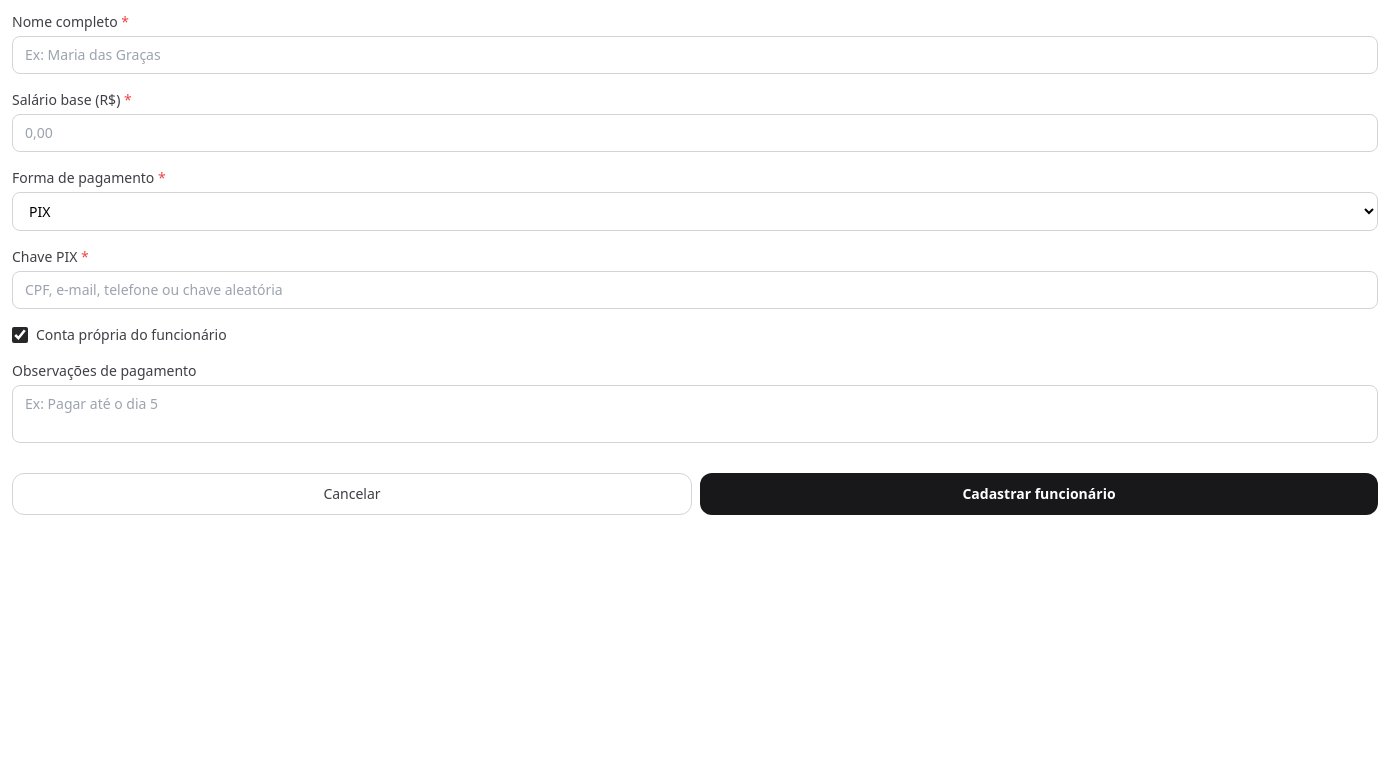
Test: FuncionarioForm — campos condicionais por forma de pagamento › ao trocar de TED para PIX, oculta campos TED e exibe campo PIX
This screenshot has width=1390, height=780.
Select "TED (transferência bancária)" in the dropdown labelled "Forma de pagamento *" at (695, 212), box [12,192,1378,231]
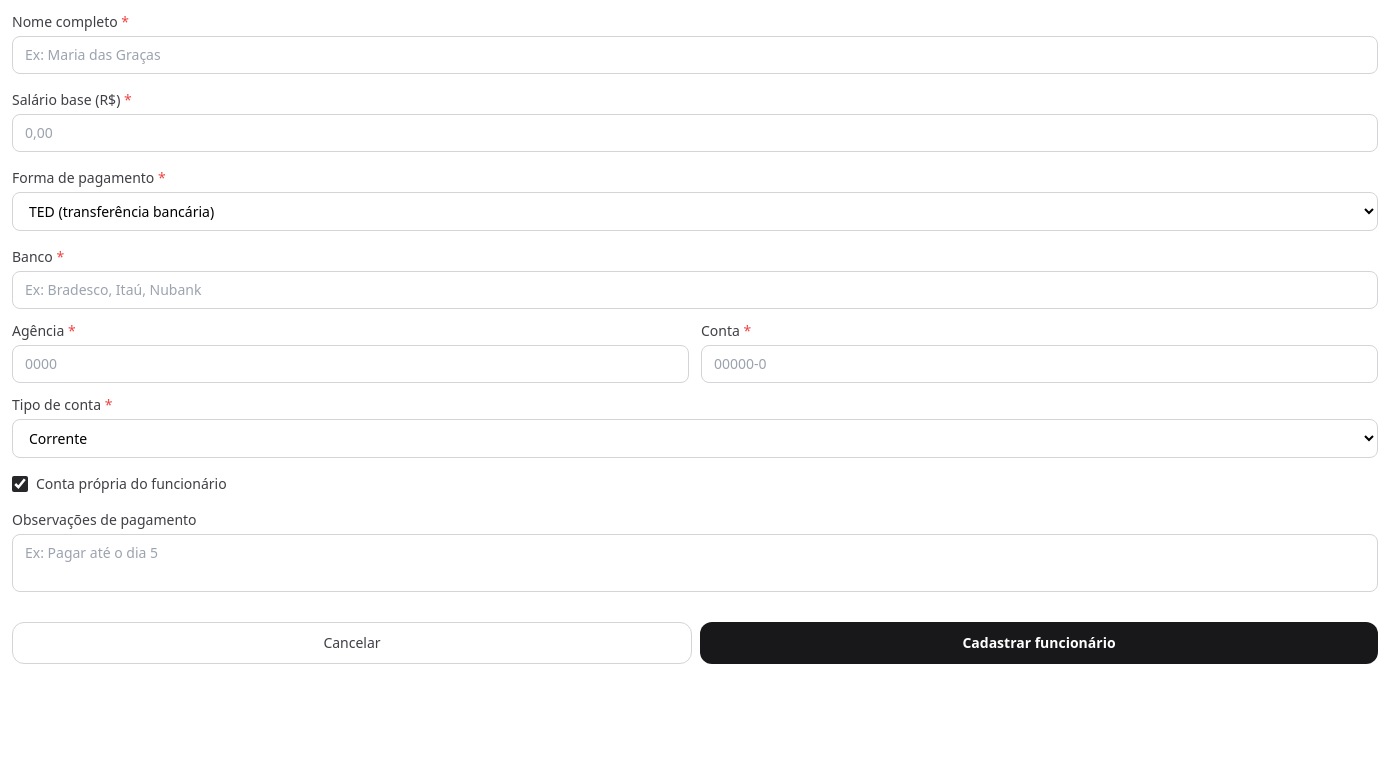
expect the element with test id "campos-ted" is shown: met, box [12,247,1378,458]
Select "PIX" in the dropdown labelled "Forma de pagamento *" at (695, 212), box [12,192,1378,231]
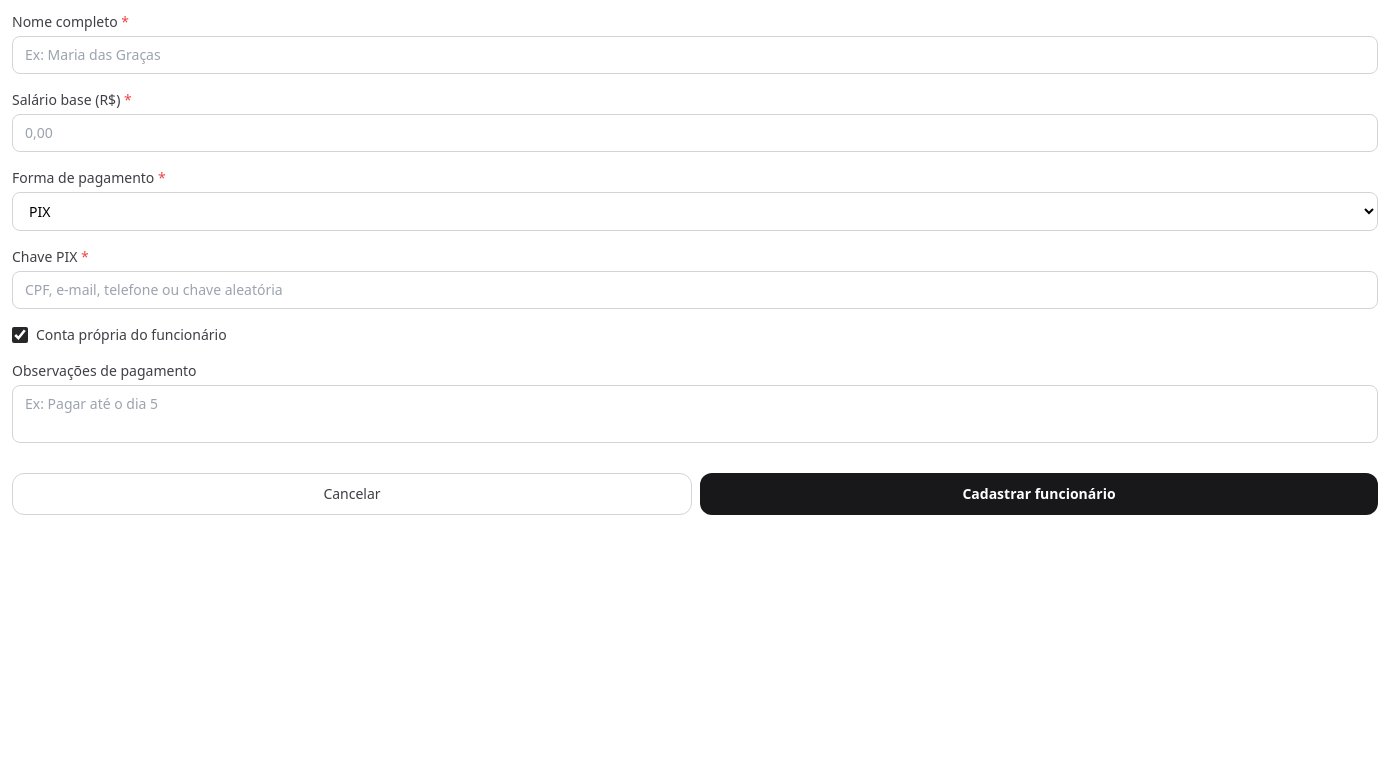
expect the element with test id "campos-pix" is shown: met, box [12,247,1378,309]
expect the element with test id "campos-ted" is gone: met
